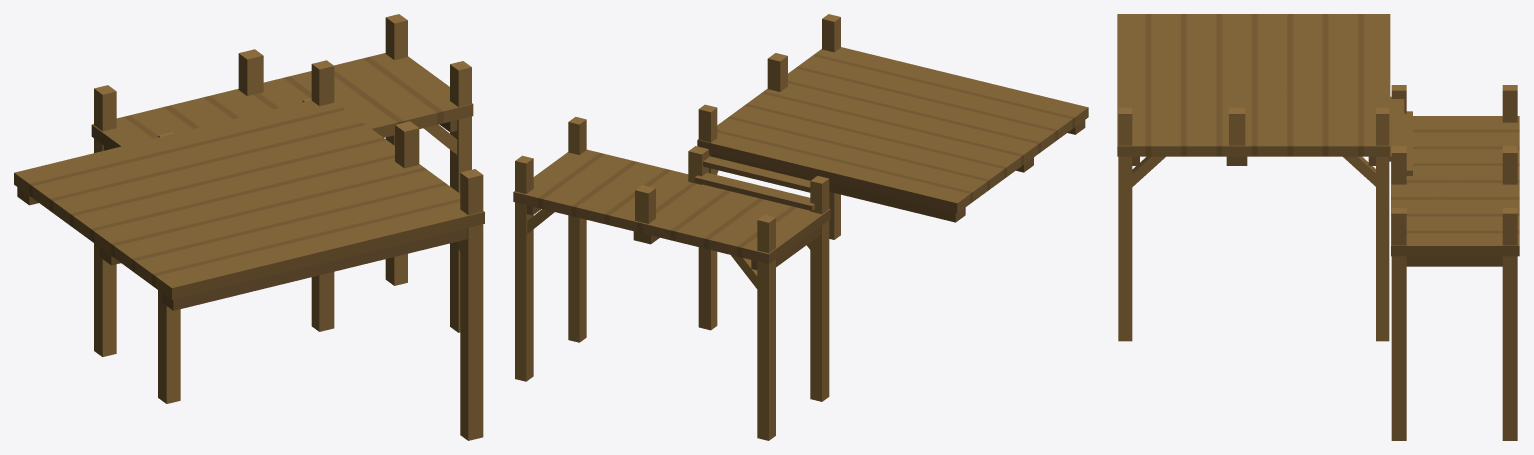
File: Docks.gltf
3 views of the same model, side by side, from view 1: azimuth 30°, elevation 25°; view 2: azimuth 150°, elevation 25°; view 3: azimuth 270°, elevation 25° (orthographic). The views are drawn at different scales.
Parts seen in each view (by area): view 1: SF_Bld_Docks_01; view 2: SF_Bld_Docks_01; view 3: SF_Bld_Docks_01.
Part boxes in pixels (x1,y1,x2,y2): SF_Bld_Docks_01: [14, 14, 484, 440]; SF_Bld_Docks_01: [513, 14, 1088, 440]; SF_Bld_Docks_01: [1117, 14, 1519, 440].
Size of the model in its own units: 0.1576 by 0.1004 by 0.1382.
Materials: 1 (1 with a texture image).
